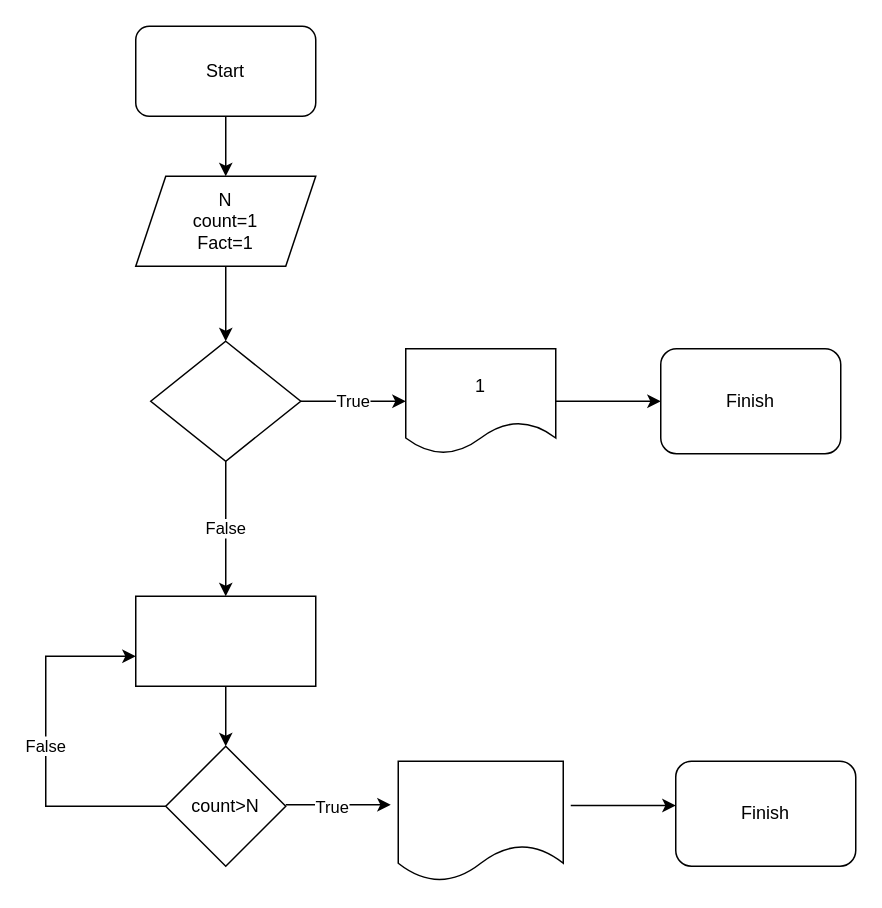
This 882x908 diagram has some shape labels left out. The shapes that lost their labels are listed below. From the top down, each one's centre as x and y in pixels, then its label:
point 225,400: N=0
point 225,640: Fact=count*Fact count=count+1
point 480,820: Fact
